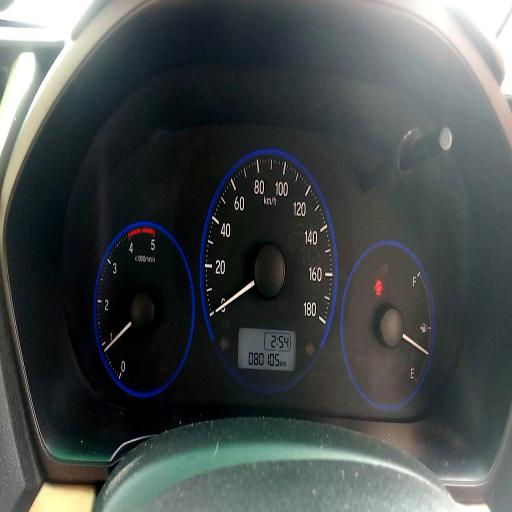tachometer: (95, 220, 196, 397)
